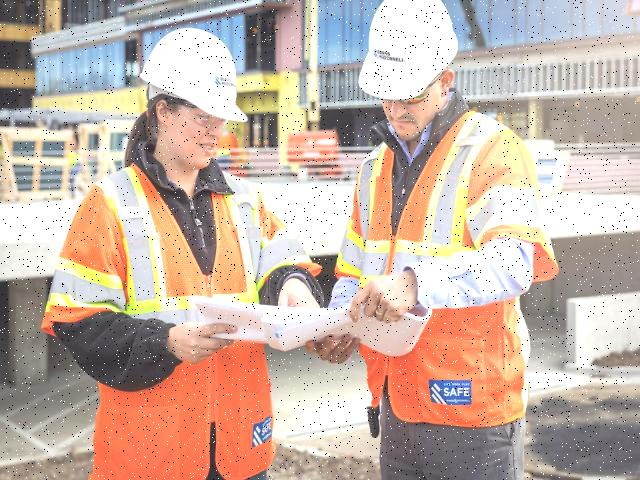Helmet: (132, 26, 253, 134), (352, 0, 468, 111)
